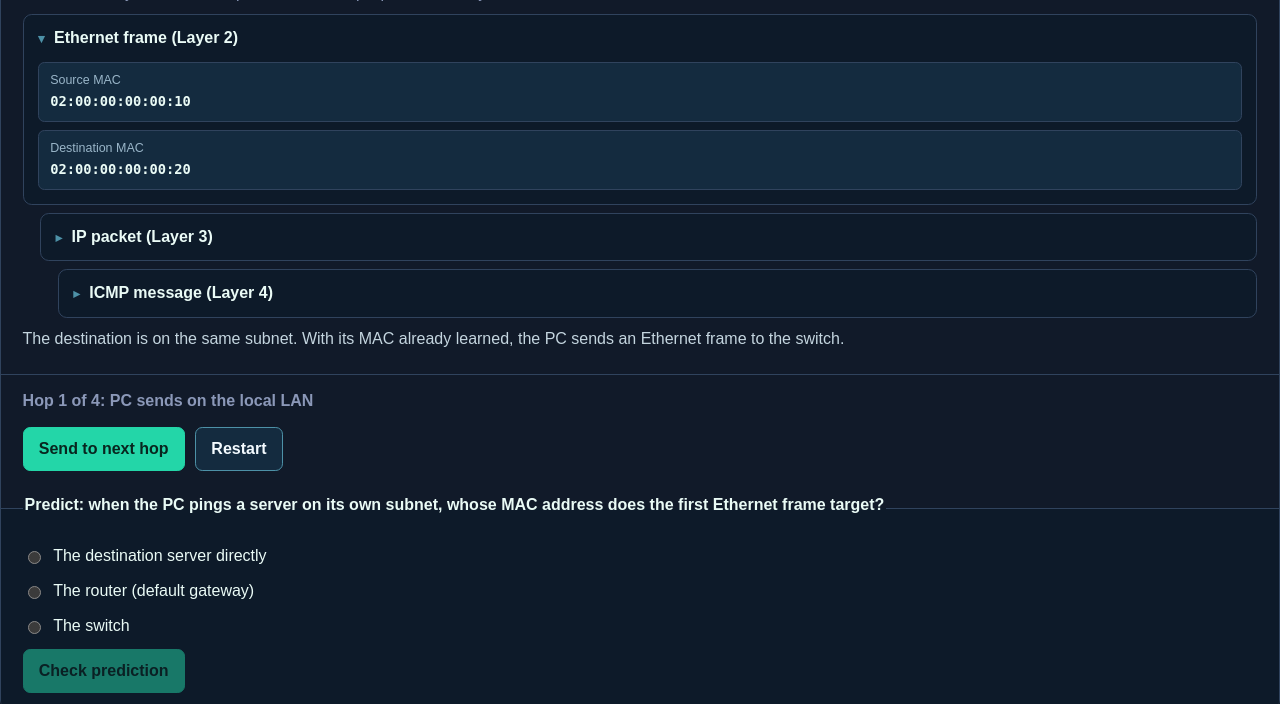
Test: PacketJourneyLab › disables the next-hop button once the final hop is reached
(page scrolled)
What coordinates should you click on to do the following:
click the button "Send to next hop"
I would click on:
 (104, 449)
Its box is left=23, top=428, right=185, bottom=471.
(page scrolled)
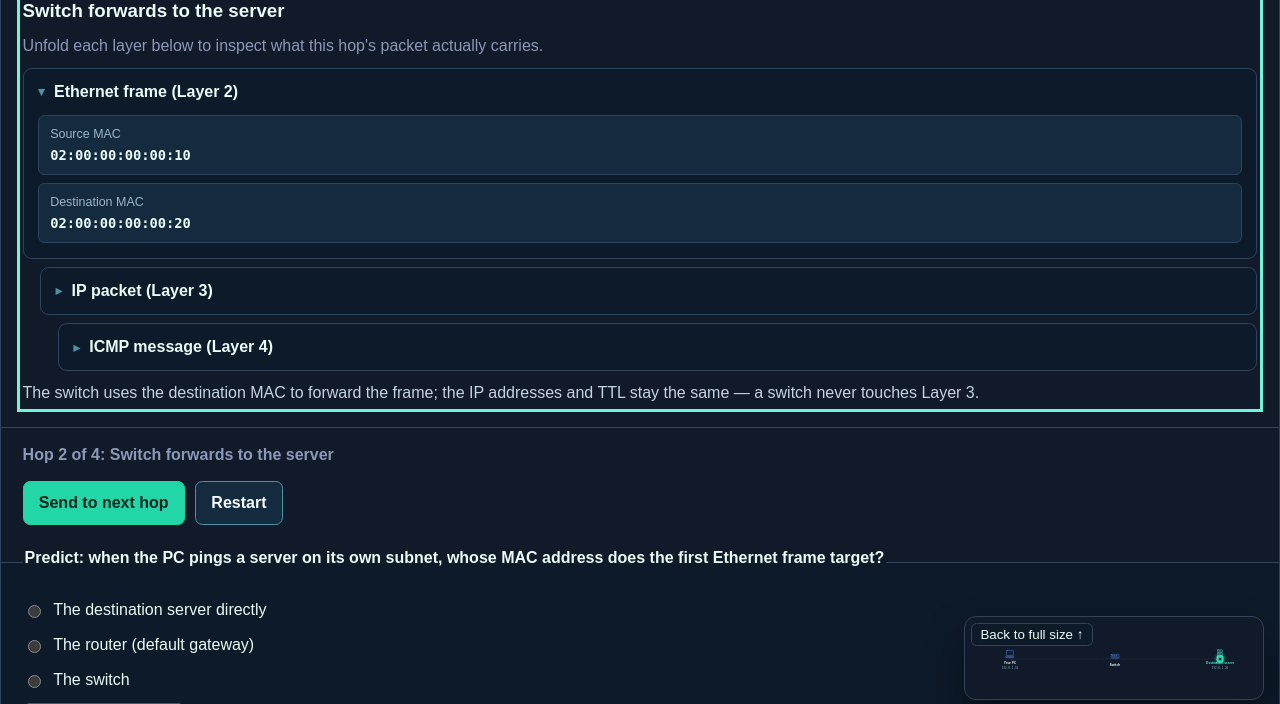
What coordinates should you click on to do the following:
click the button "Send to next hop"
I would click on:
 (104, 503)
Its box is left=23, top=481, right=185, bottom=525.
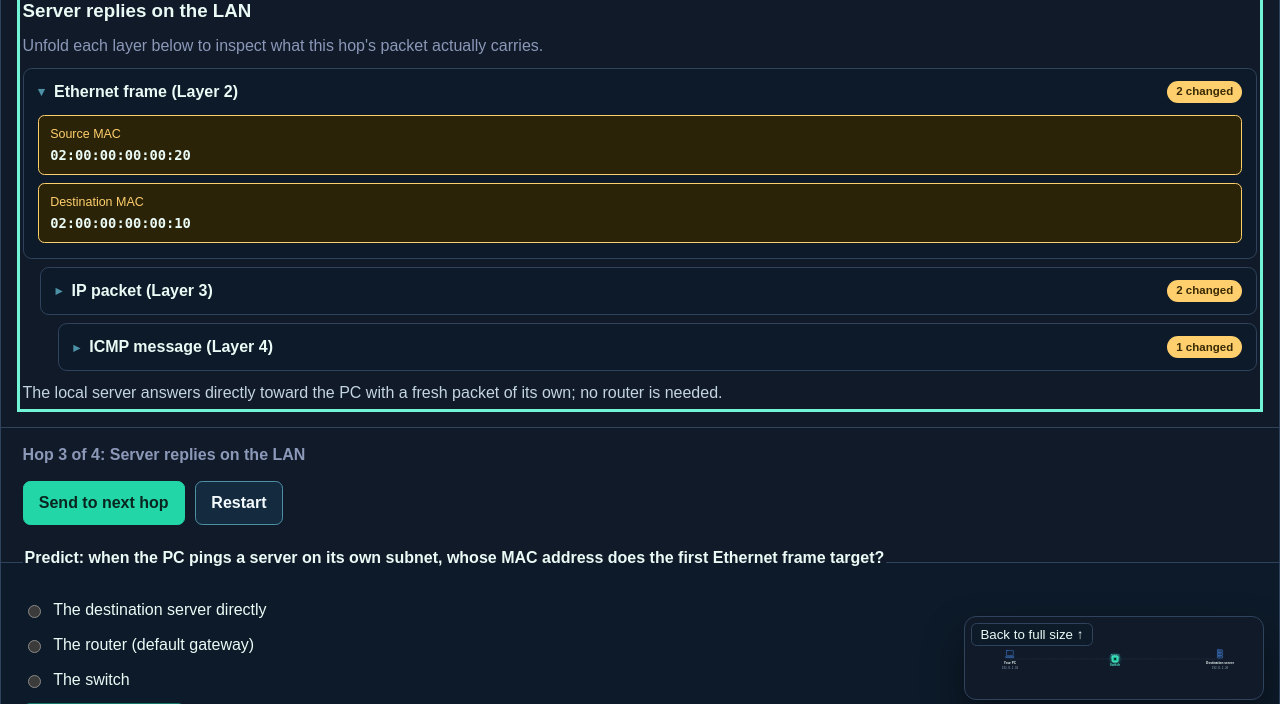
What coordinates should you click on to do the following:
click the button "Send to next hop"
I would click on:
 (104, 503)
Its box is left=23, top=481, right=185, bottom=525.
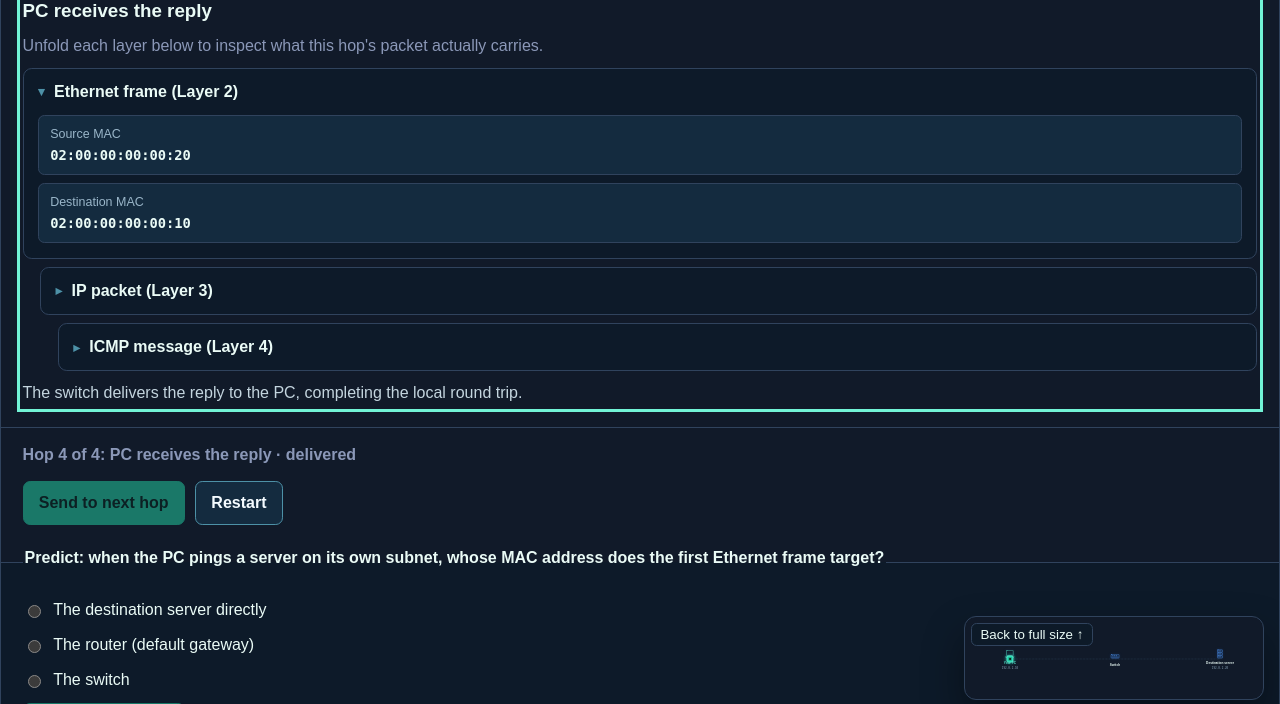
Now the message shows "Hop 4 of 4", box left=1, top=427, right=1279, bottom=481
Now the button "Send to next hop" is disabled, box left=23, top=481, right=185, bottom=525
